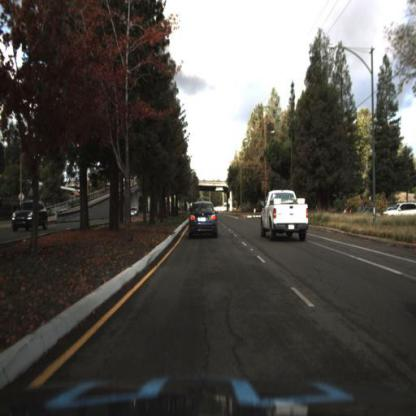car: (256, 182, 316, 253), (187, 196, 219, 237), (11, 200, 49, 233), (379, 200, 416, 230), (379, 200, 416, 221)
